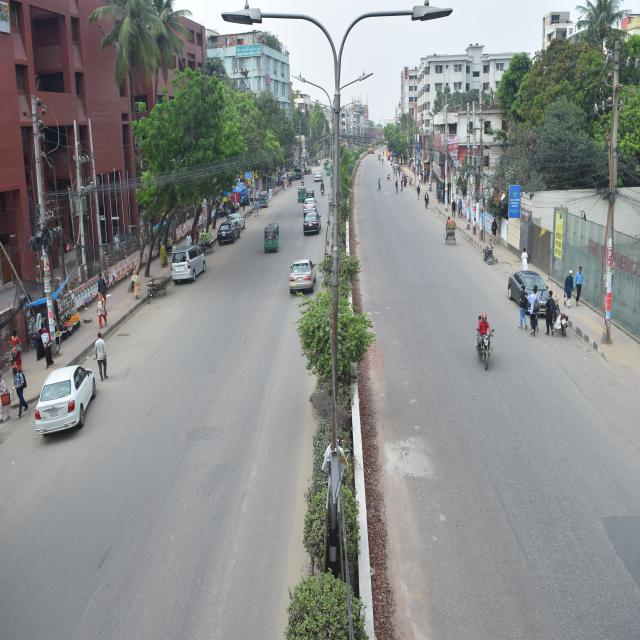car: (33, 365, 97, 440), (505, 268, 566, 330), (288, 250, 316, 296), (214, 214, 244, 252), (299, 196, 318, 214), (306, 211, 322, 232)
microbus: (164, 243, 210, 287)
motorbike: (474, 314, 499, 367)
